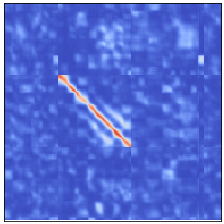action_path: (56, 75, 131, 149)
